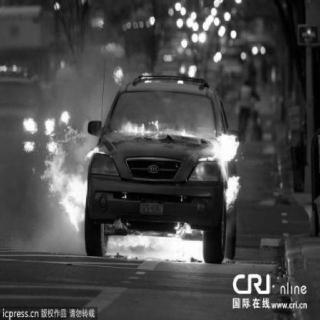Fire: (110, 228, 209, 258), (110, 67, 126, 83)
